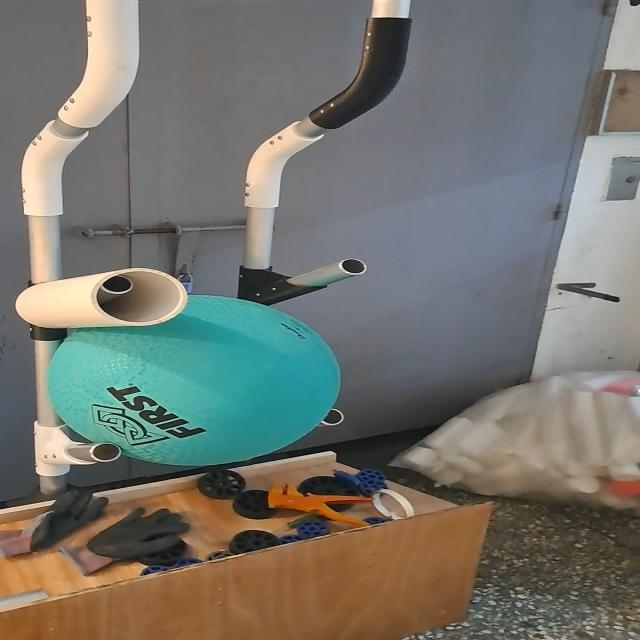ALGAE: (43, 293, 346, 472)
CORAL: (12, 267, 192, 331)
